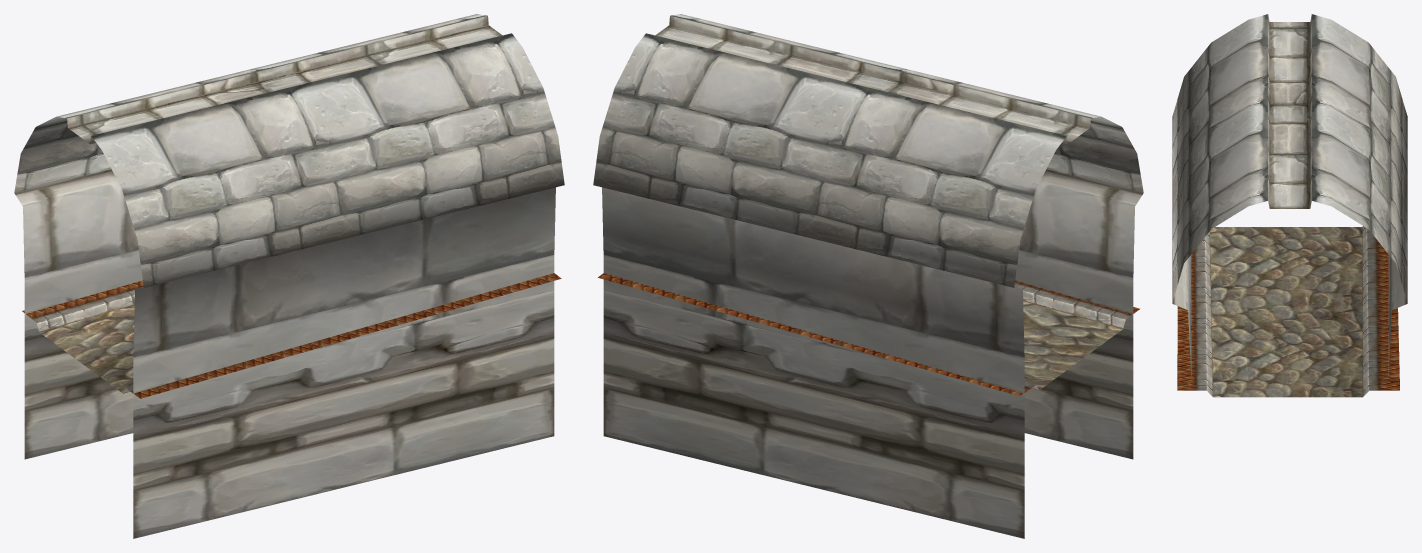
The model's file is stormwind_033.fbx.
3 views of the same model, side by side, from view 1: azimuth 30°, elevation 25°; view 2: azimuth 150°, elevation 25°; view 3: azimuth 270°, elevation 25° (orthographic). The views are drawn at different scales.
Visible parts, largest first — view 1: stormwind_033_11, stormwind_033_4, stormwind_033_5, stormwind_033_12, stormwind_033_46; view 2: stormwind_033_11, stormwind_033_4, stormwind_033_5, stormwind_033_46, stormwind_033_12; view 3: stormwind_033_4, stormwind_033_46, stormwind_033_12, stormwind_033_5, stormwind_033_11.
Boxes of the visible parts, x1,y1,x2,y2 form: stormwind_033_11: (14, 169, 555, 538); stormwind_033_4: (14, 14, 564, 287); stormwind_033_5: (67, 15, 502, 144); stormwind_033_12: (22, 273, 561, 398); stormwind_033_46: (39, 305, 134, 393); stormwind_033_11: (602, 169, 1143, 538); stormwind_033_4: (593, 14, 1143, 287); stormwind_033_5: (655, 15, 1090, 144); stormwind_033_46: (1023, 301, 1122, 390); stormwind_033_12: (598, 273, 1139, 396); stormwind_033_4: (1172, 14, 1407, 302); stormwind_033_46: (1210, 227, 1362, 397); stormwind_033_12: (1177, 226, 1399, 396); stormwind_033_5: (1268, 16, 1311, 208); stormwind_033_11: (1172, 255, 1407, 375).
Bounding box in the file's own units: 18.89 × 15.95 × 10.07.
